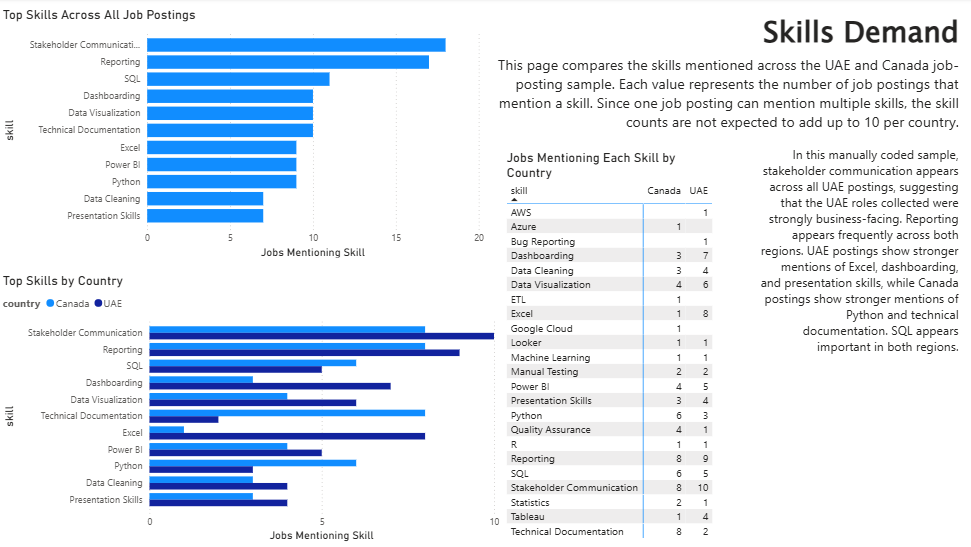

What the dashboard file says about the page in this screenshot:
{"tool":"powerbi","page":{"name":"Skills Demand","canvas":[1280,720],"ordinal":1},"visuals":[{"type":"clusteredBarChart","title":"Top Skills Across All Job Postings","fields":{"Category":["Job Skills.skill"],"Y":["Job Skills.Skill Mentions"]},"box":[0,11.7,640,333.3],"z":0},{"type":"pivotTable","title":"Jobs Mentioning Each Skill by Country","fields":{"Rows":["Job Skills.skill"],"Columns":["Job Skills.country"],"Values":["Job Skills.Skill Mentions"]},"box":[660,198.6,281.4,518.6],"z":2000},{"type":"clusteredBarChart","title":"Top Skills by Country","fields":{"Category":["Job Skills.skill"],"Y":["Job Skills.Jobs Mentioning Skill"],"Series":["Job Skills.country"]},"box":[0,360,660,356.7],"z":3001},{"type":"textbox","box":[640,11.4,621.4,167.1],"z":3002},{"type":"textbox","box":[988.6,188.6,272.9,290],"z":3003}]}

Visuals, with their boxes in screenshot pixels (x1, y1, x2, y2), scaled from the page's 1280x720 canvas onto the 971x547 screenshot:
"Top Skills Across All Job Postings" clusteredBarChart: l=0, t=9, r=486, b=262
"Jobs Mentioning Each Skill by Country" pivotTable: l=501, t=151, r=714, b=545
"Top Skills by Country" clusteredBarChart: l=0, t=274, r=501, b=544
textbox: l=486, t=9, r=957, b=136
textbox: l=750, t=143, r=957, b=364
